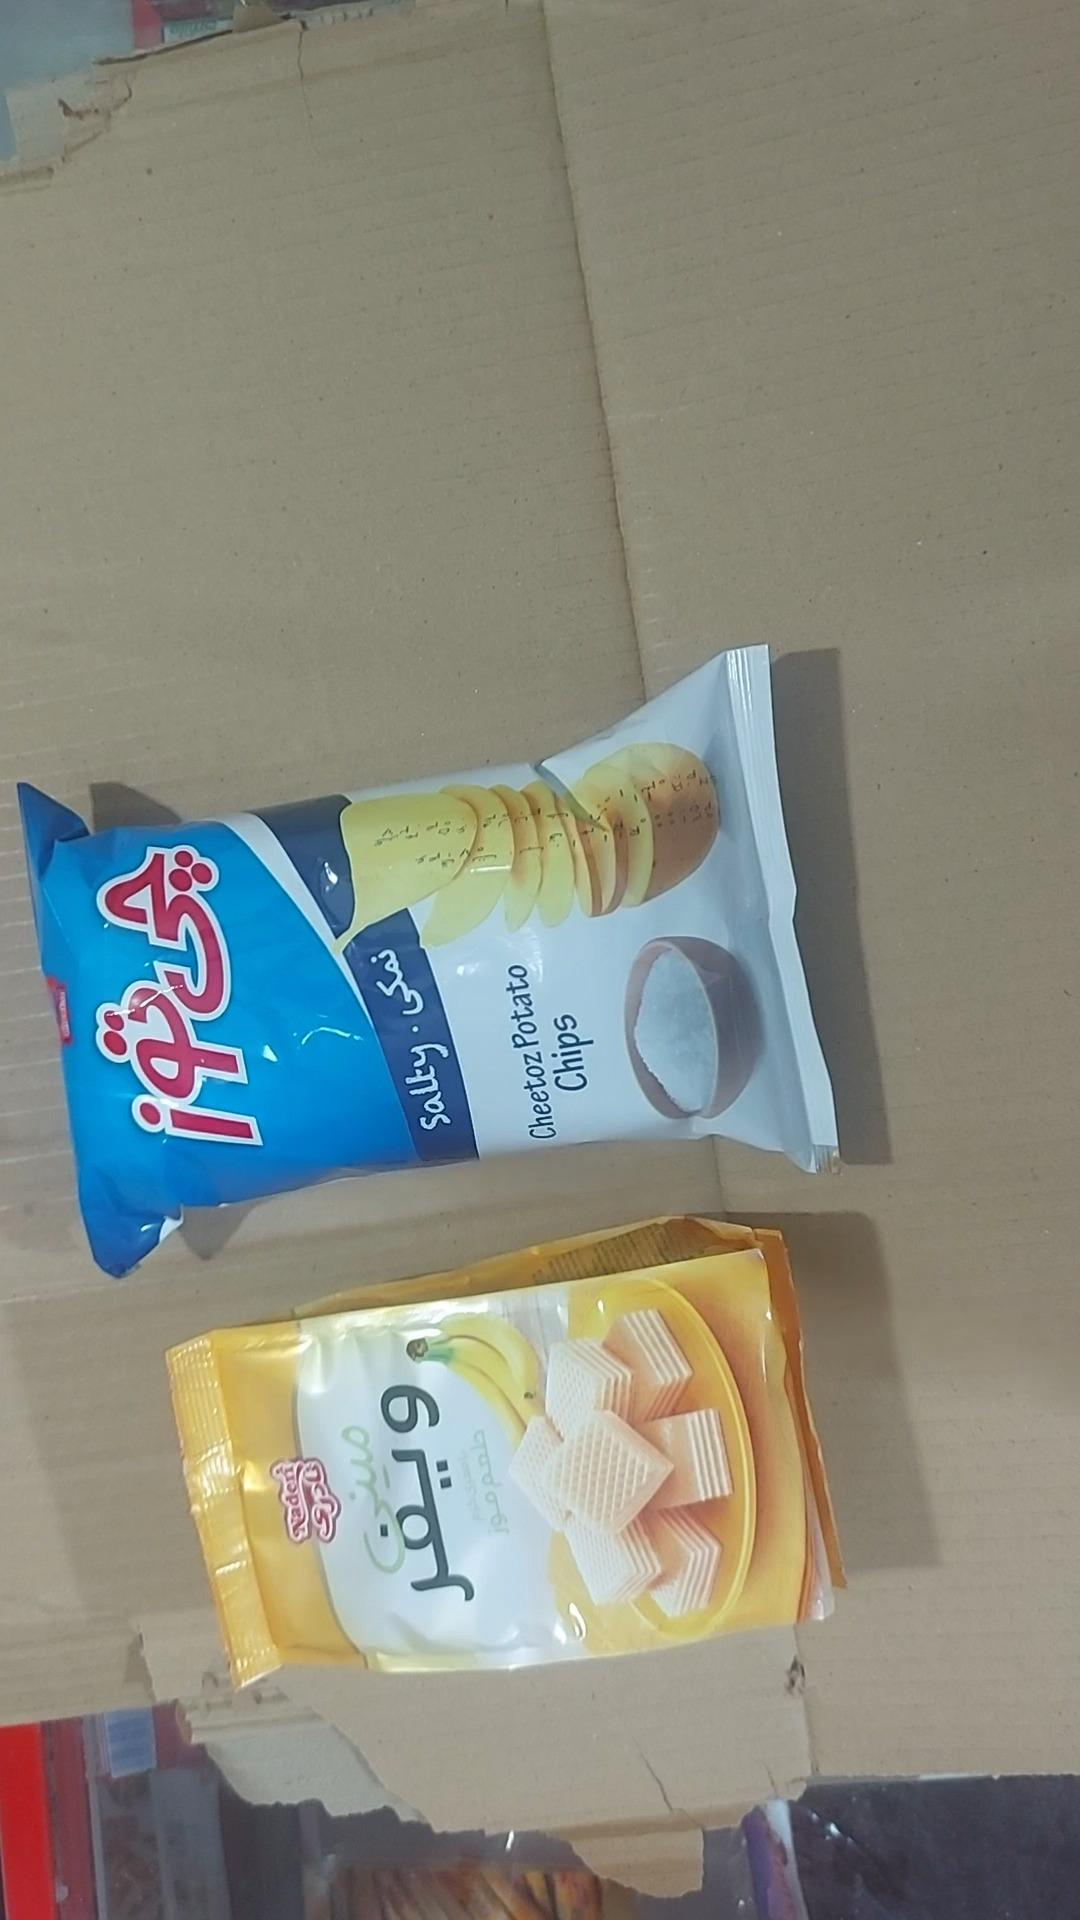Cheetoz salty chips: (13, 646, 839, 1282)
Naderi mini wafer: (164, 1216, 847, 1691)
